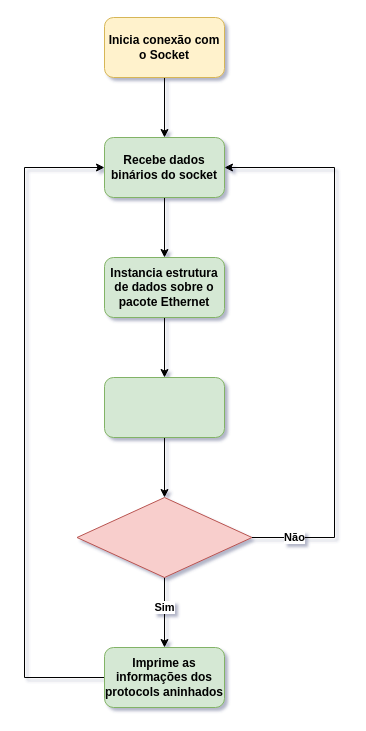
The diagram is 366 pixels wide and 731 high, and some of its shapes have lost their labels. Here are the shapes that lost their labels. From the top down, the centre of each, then its label:
At (x=164, y=407): "Instacia estrutura de dados sobre pacote ARP, IPv4 ou IPv6".
At (x=164, y=537): "Pacote possui dados?".
